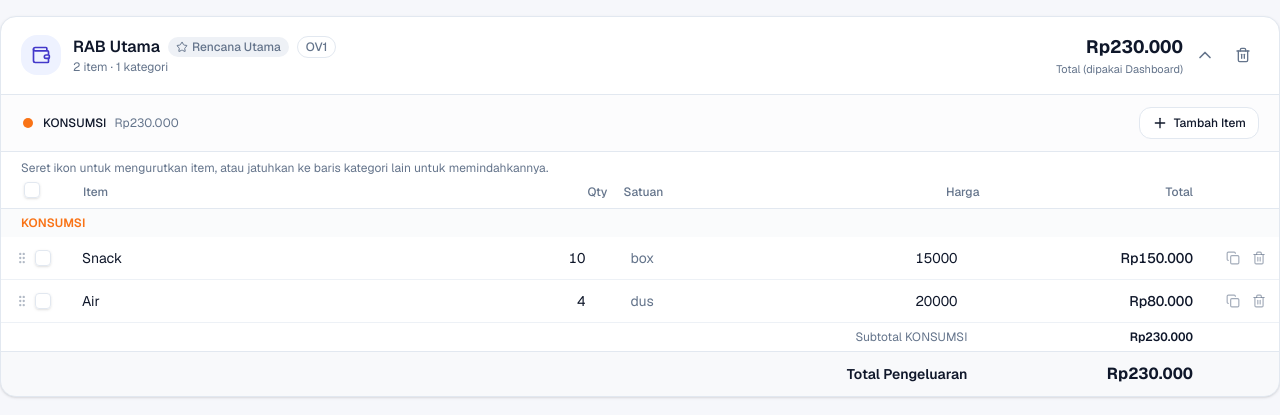
Test: optimistic rollback › rolls back only the row that failed, keeping an earlier successful edit
The width and height of the screenshot is (1280, 415).
Replace the text in the 1st number field with "99". click: {"x": 576, "y": 258}
box: [544,244,608,270]
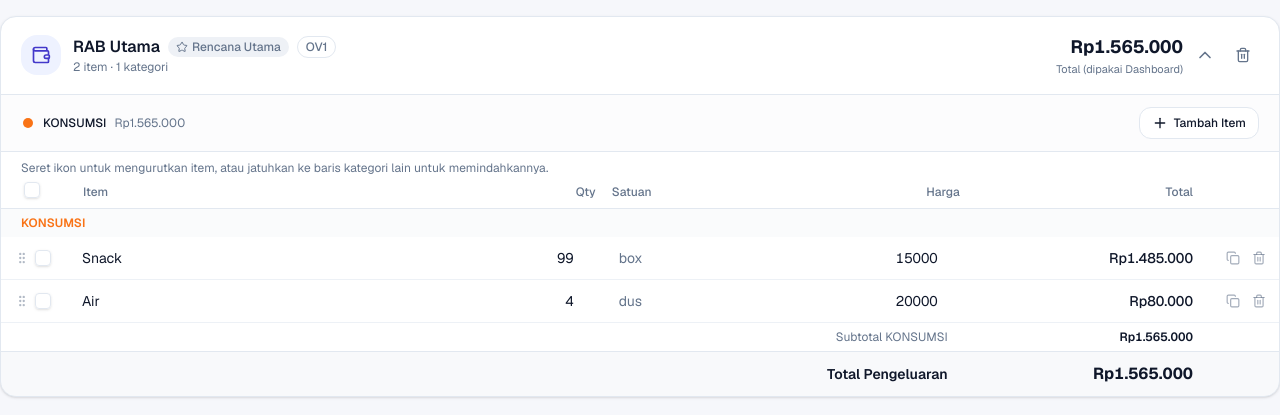
Replace the text in the 3rd number field with "77". click: {"x": 564, "y": 300}
box: [532,288,596,314]
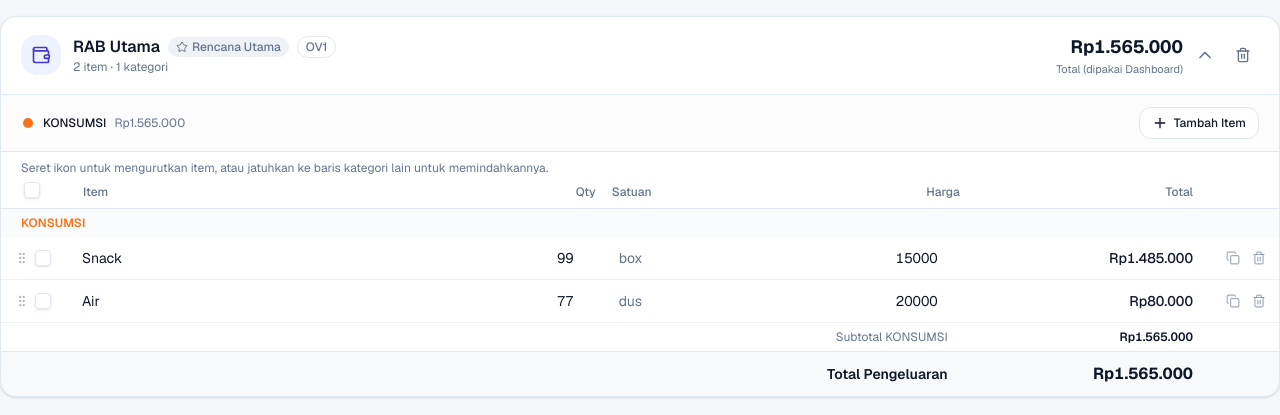
Leave the 3rd number field, box [532,288,596,314]
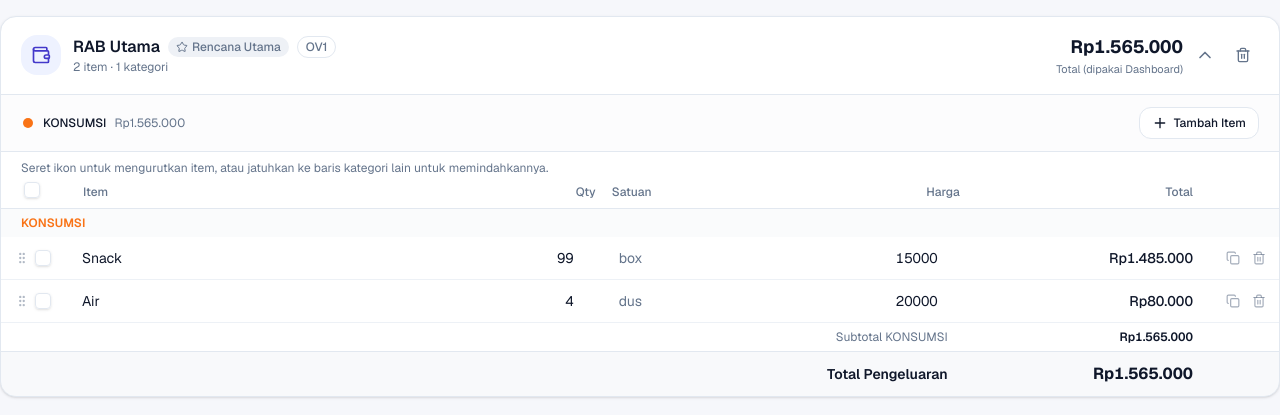
Check: the 3rd number field holds "4", box [532,288,596,314]
